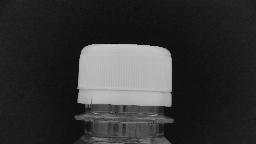Broken Ring: (82, 88, 100, 106)
Loose Cap: (71, 83, 179, 126)
